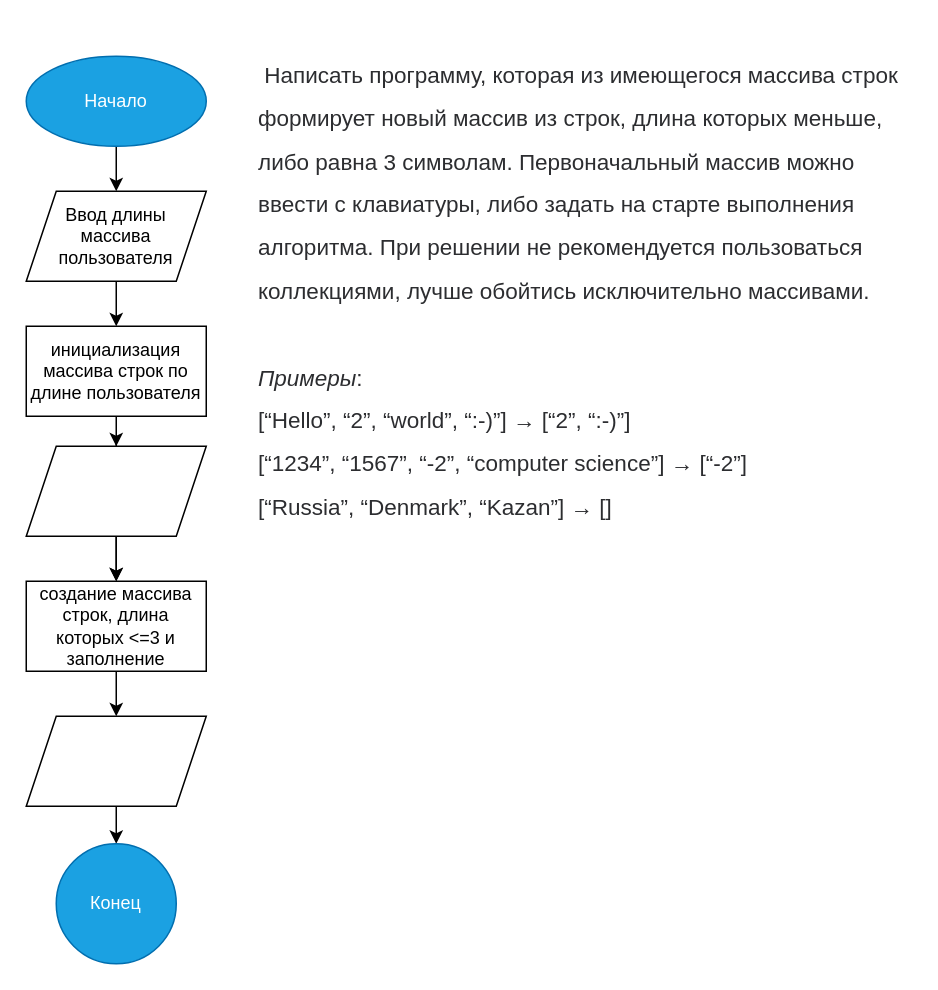
The diagram is 938 pixels wide and 990 high, and some of its shapes have lost their labels. The centre of each missing label's shape, as x and y in pixels:
Ввод элементов массива пользователя: [115,490]
Вывод массива пользователя и нового массива: [115,760]
